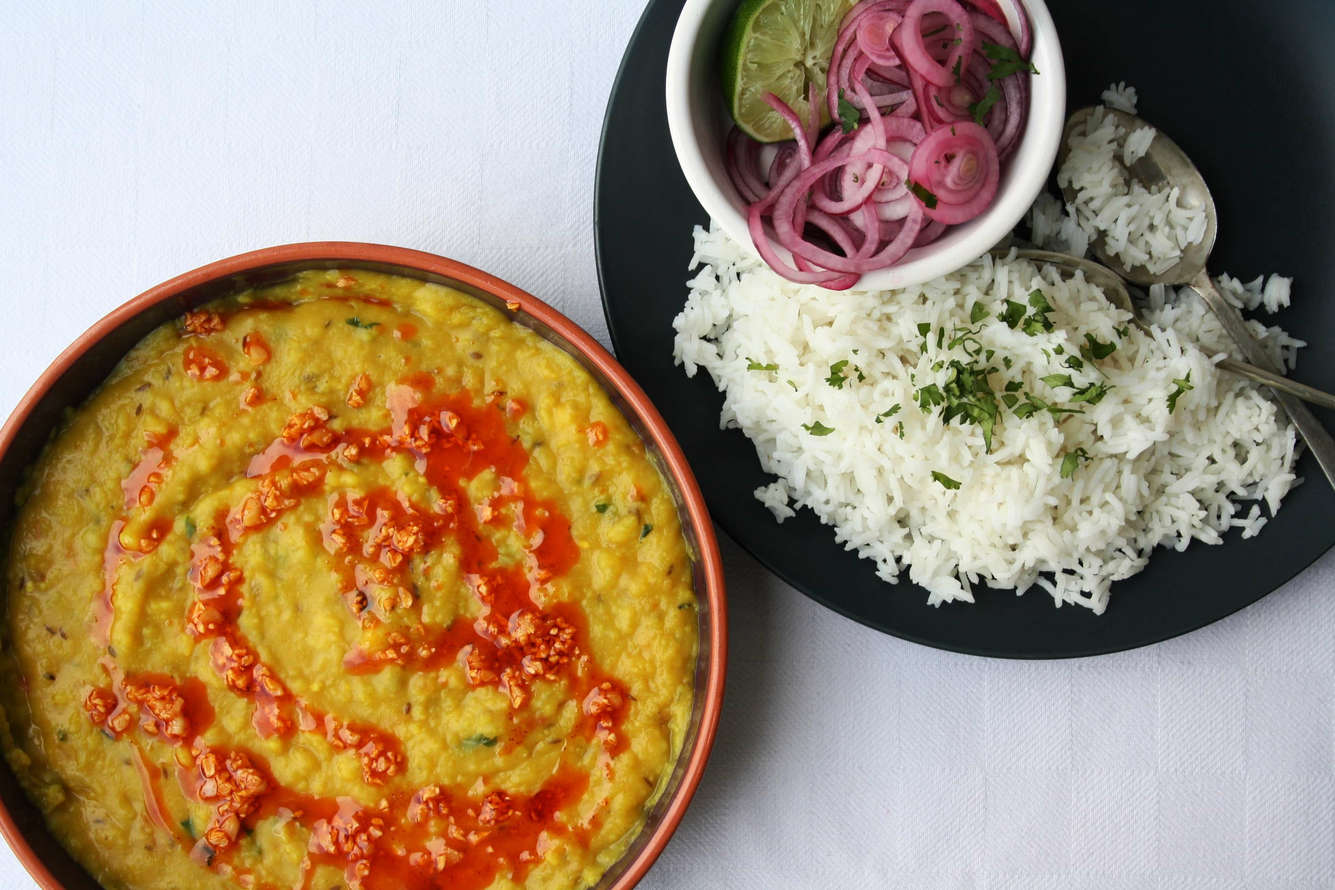Dal: (0, 261, 706, 890)
WhiteRice: (670, 86, 1296, 613)
